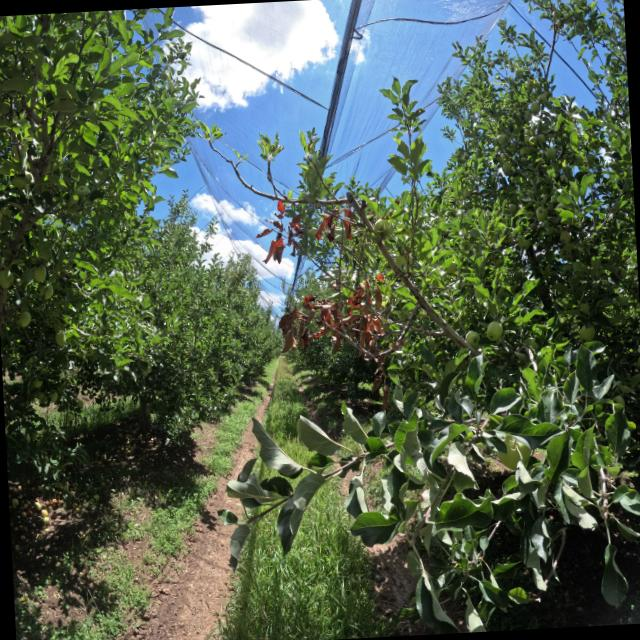-FireBlight-: (273, 272, 401, 359), (252, 203, 306, 267), (316, 207, 360, 245)
